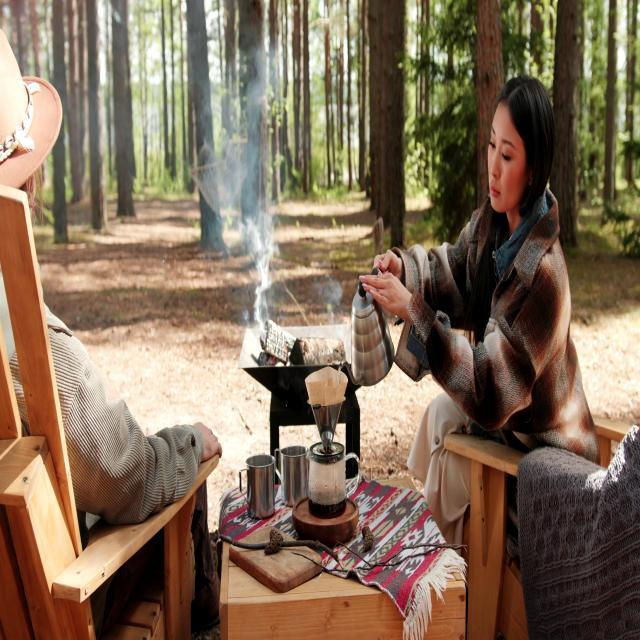Smoke: (176, 17, 298, 340)
